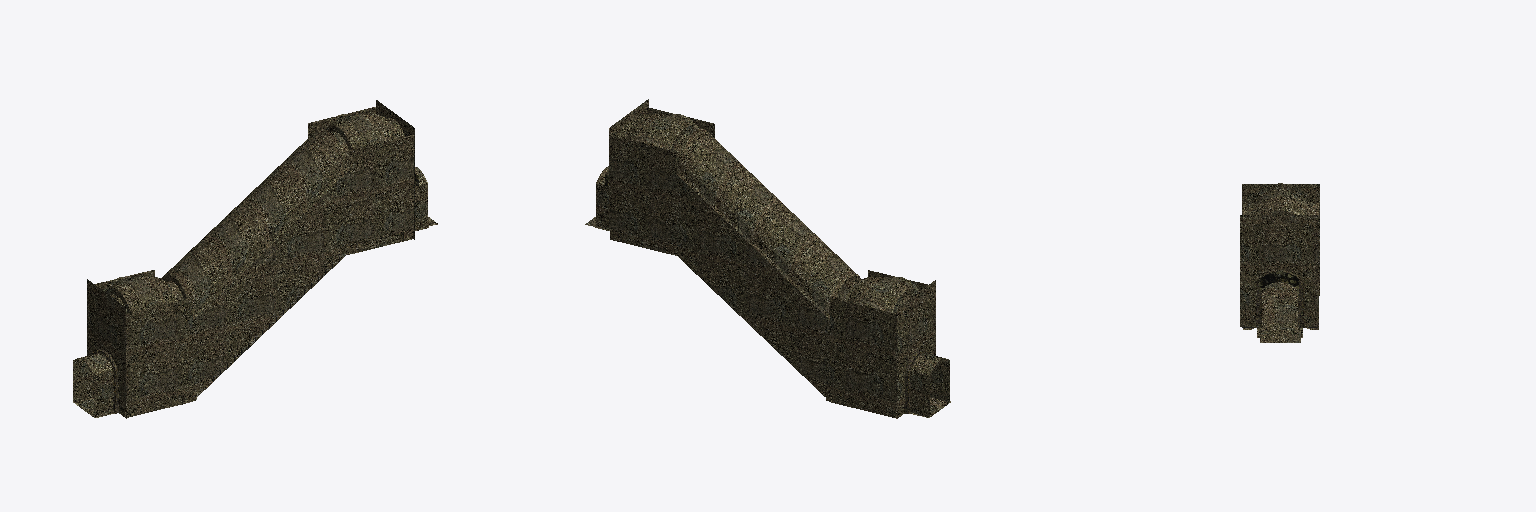
3 renders of one model, left to right at view 1: azimuth 30°, elevation 25°; view 2: azimuth 150°, elevation 25°; view 3: azimuth 270°, elevation 25°, orthographic.
Parts seen in each view (by area): view 1: mesh5, mesh6, mesh4; view 2: mesh5, mesh6, mesh4; view 3: mesh5, mesh6, mesh4.
Part boxes in pixels (x1,y1,x2,y2): mesh5: (87,100,414,418); mesh6: (73,113,428,417); mesh4: (73,141,437,416); mesh5: (609,99,935,418); mesh6: (595,114,950,417); mesh4: (585,142,949,416); mesh5: (1240,184,1319,326); mesh6: (1243,183,1318,337); mesh4: (1243,290,1318,342).
Bounding box in the file's own units: 16.58 × 10.34 × 3.33.
7 materials, 5 textured.